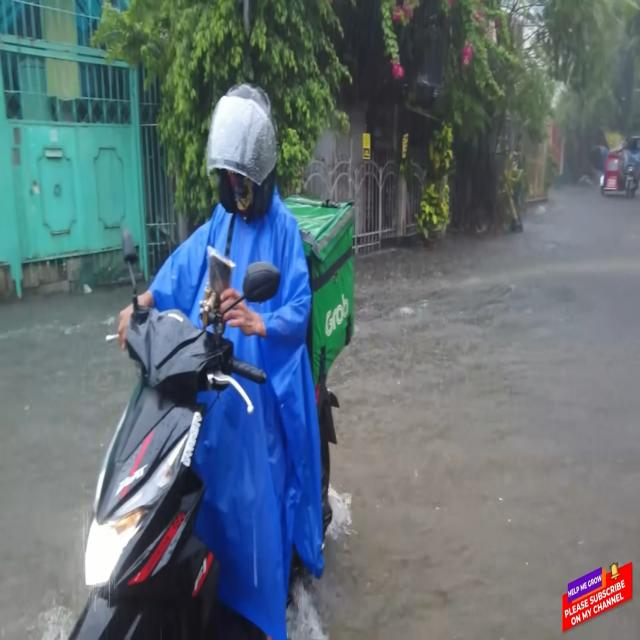half: (205, 76, 284, 232)
